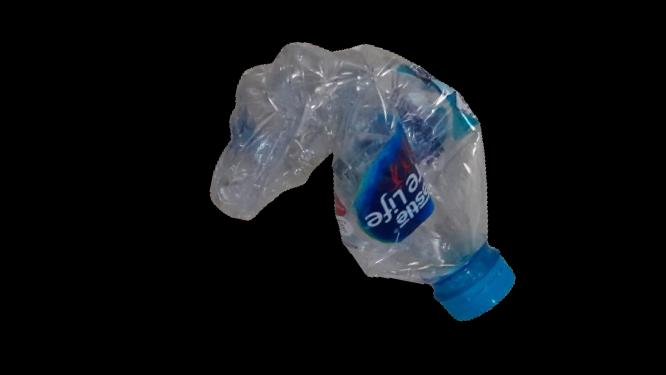Plastik: (184, 13, 561, 334)
